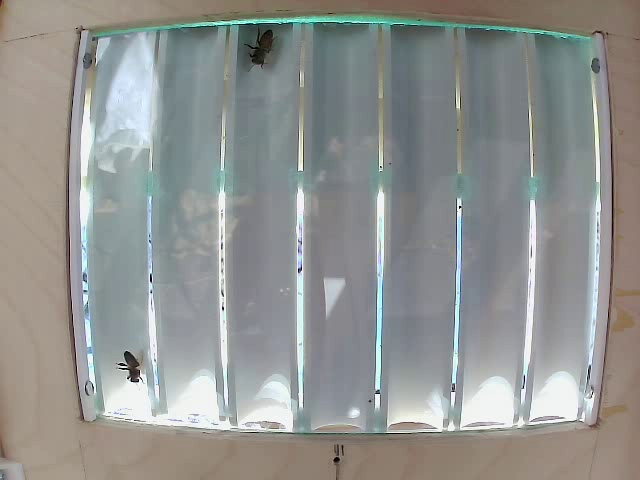bee: (242, 28, 297, 90), (111, 343, 159, 381)
